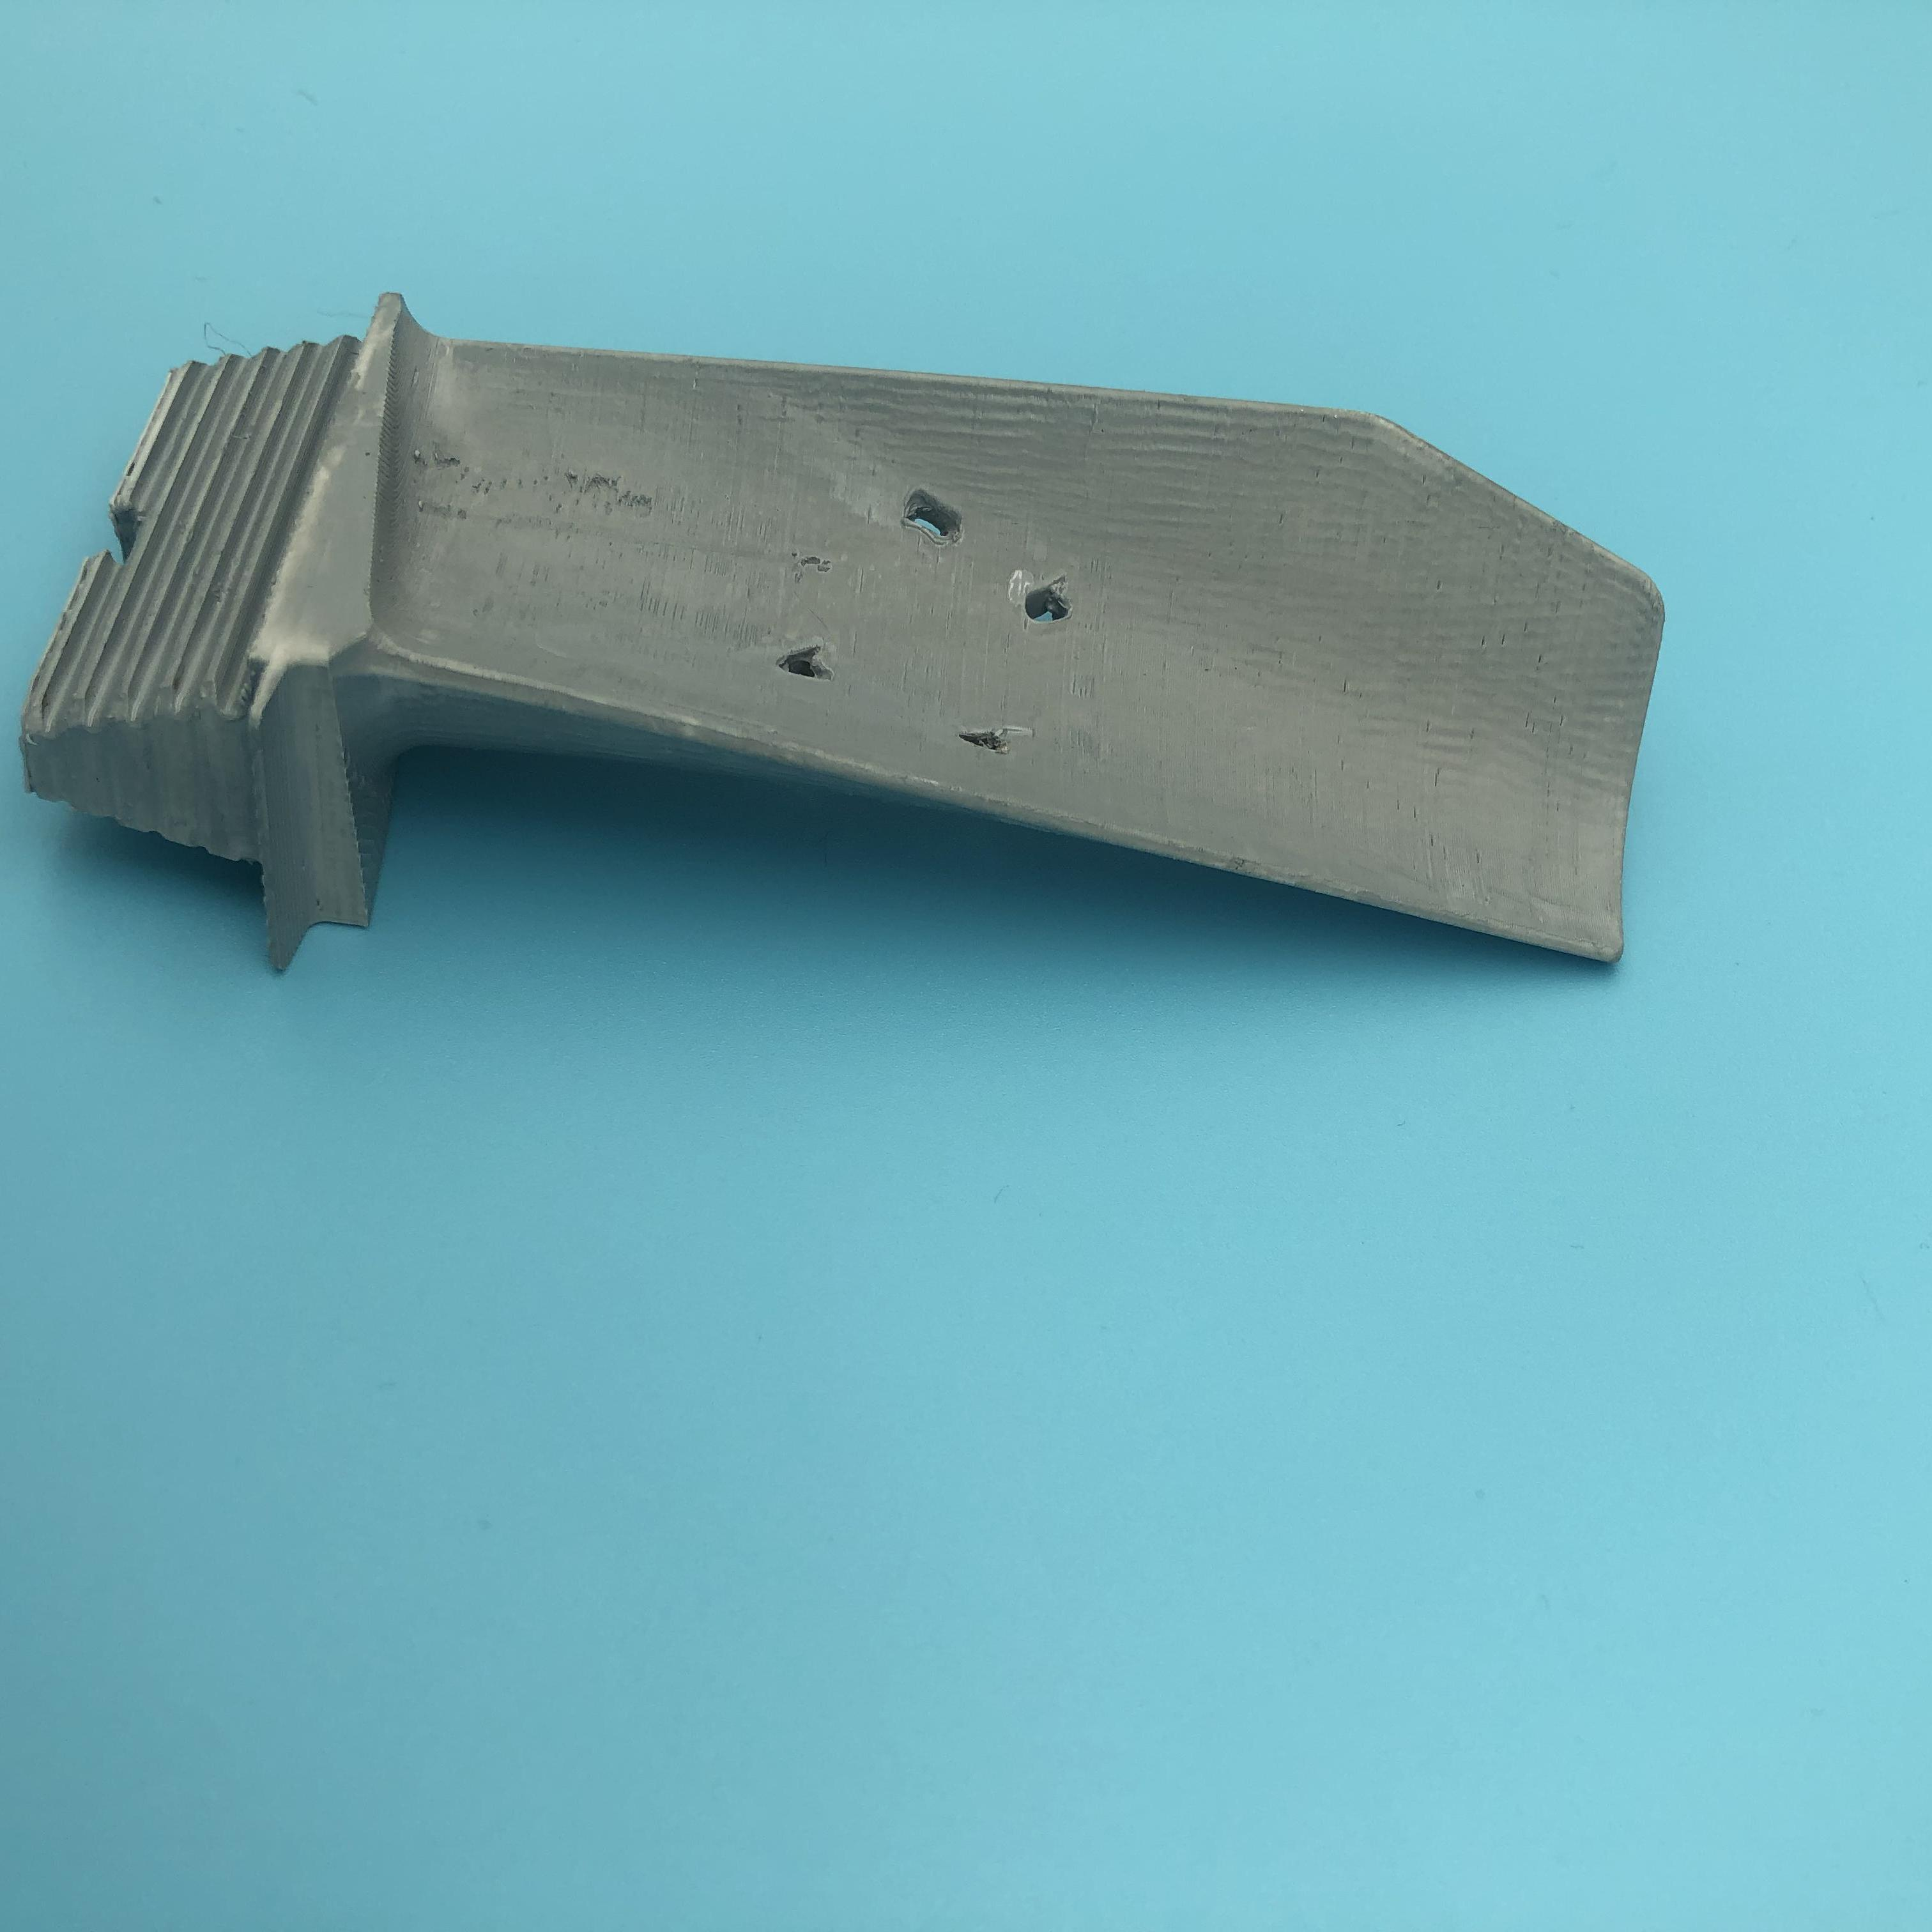breakdown: (791, 487, 1058, 775)
